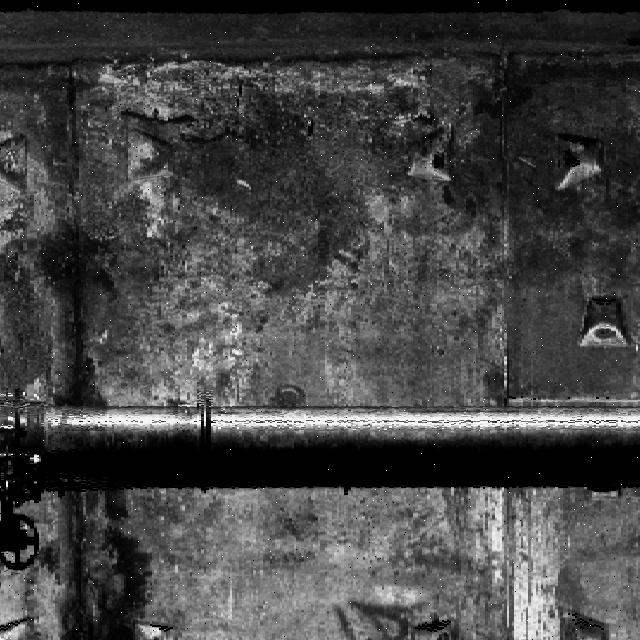leakage: (33, 165, 119, 407), (20, 475, 145, 639)
